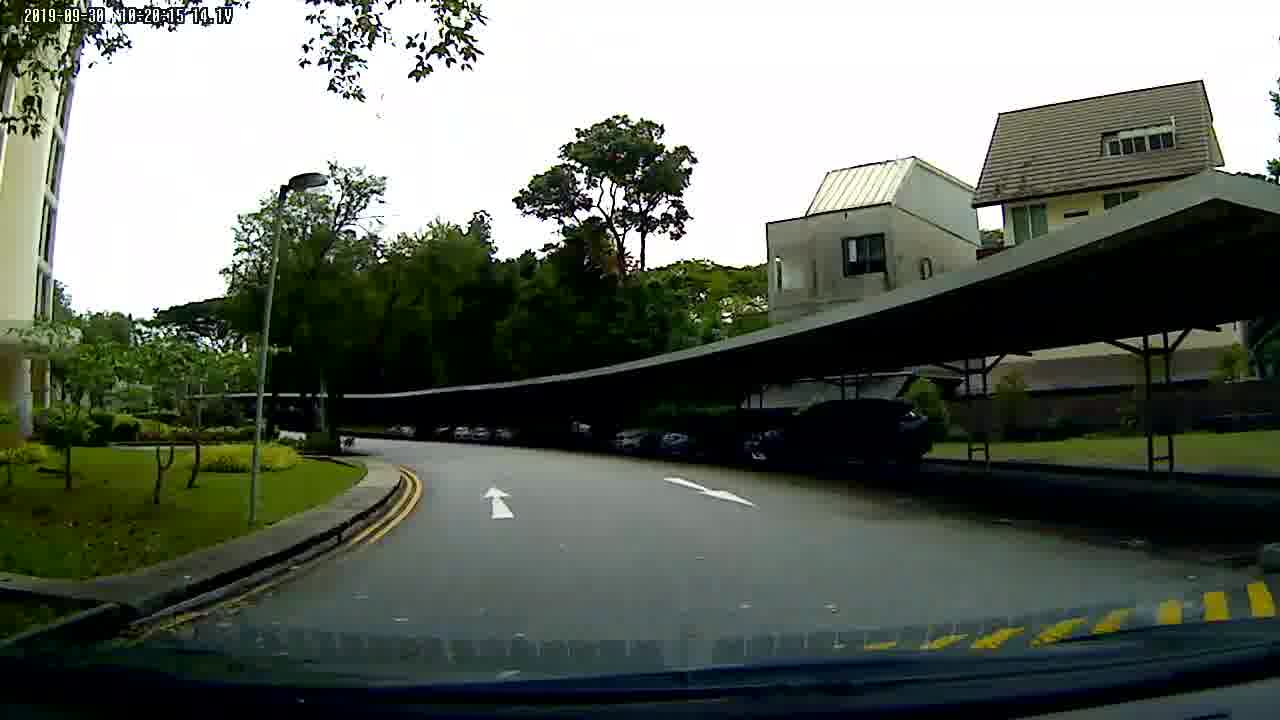car: (735, 398, 938, 474)
